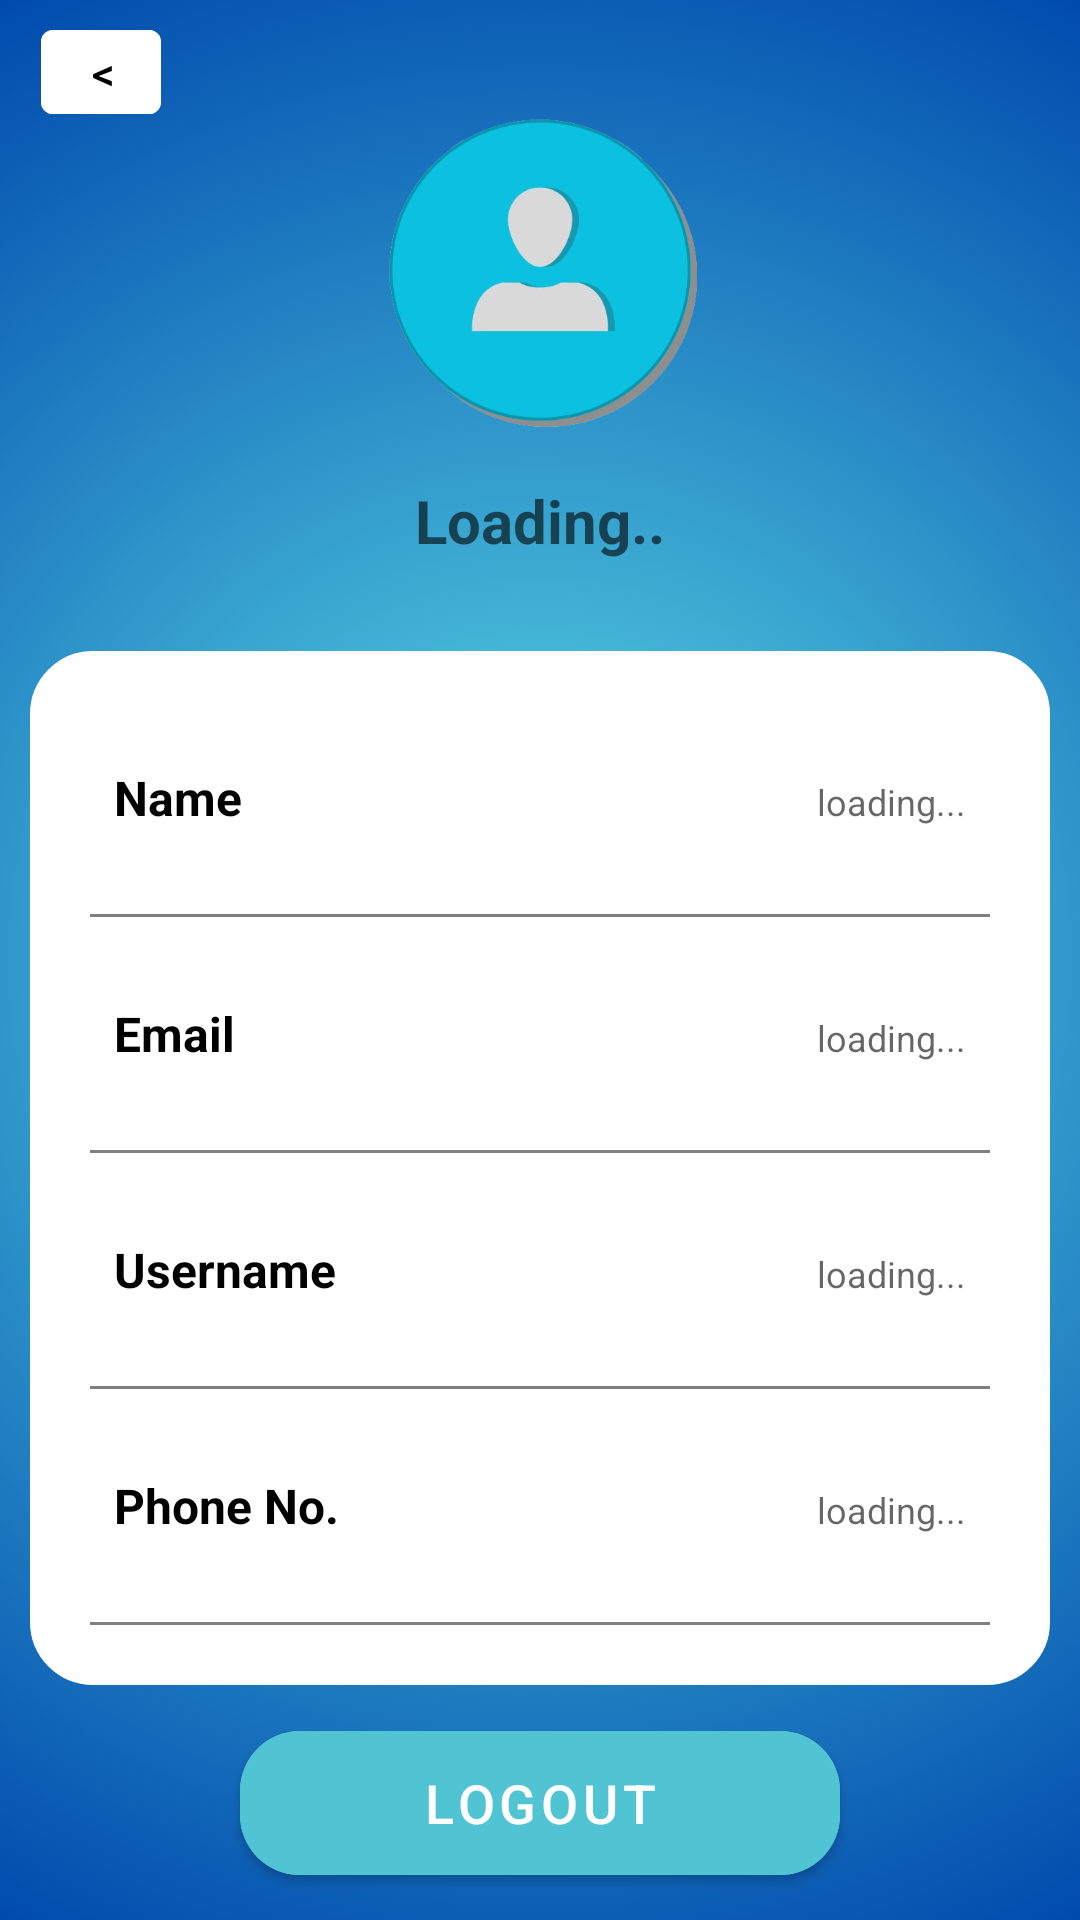

Where to tap for icons on this 1080px x 1920px app screen, as (x,y):
user: (540,270)
